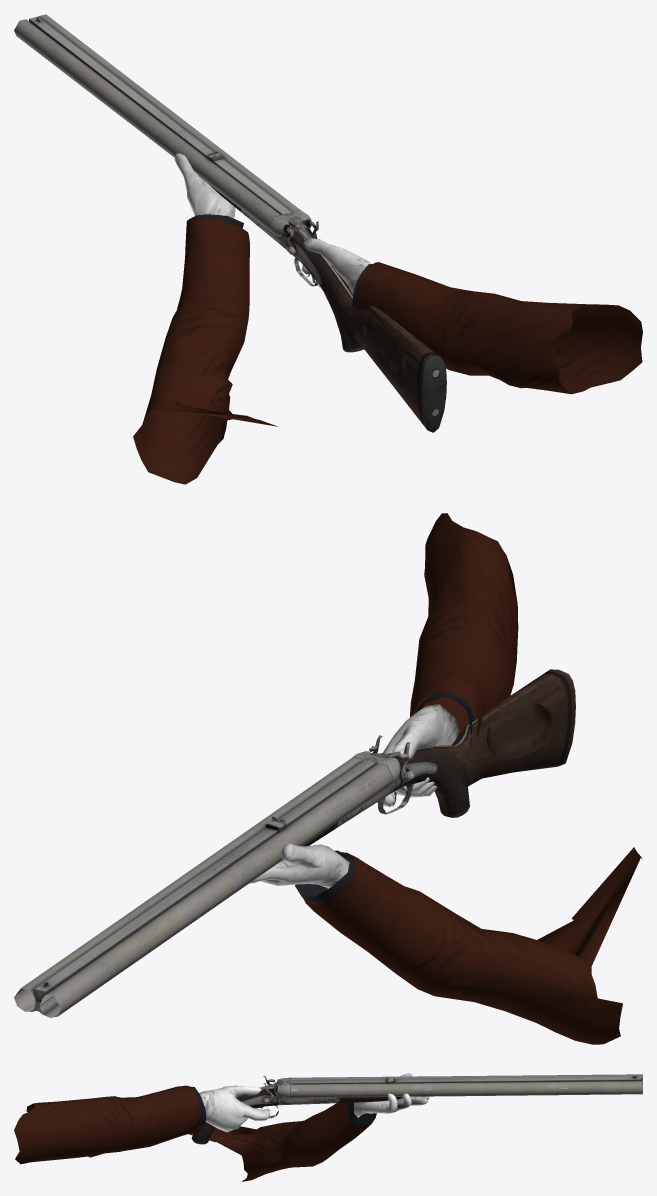
Rendered from frame_2.obj.
3 views of the same model, one above another, from view 1: azimuth 30°, elevation 25°; view 2: azimuth 150°, elevation 25°; view 3: azimuth 270°, elevation 25° (orthographic). The views are drawn at different scales.
Parts seen in each view (by area): view 1: PlayerModelMerged.001_PlayerModelMerged, double_-_barreled_shotgun_L_double_-_barreled_shotgun_LP_к.001; view 2: PlayerModelMerged.001_PlayerModelMerged, double_-_barreled_shotgun_L_double_-_barreled_shotgun_LP_к.001; view 3: PlayerModelMerged.001_PlayerModelMerged, double_-_barreled_shotgun_L_double_-_barreled_shotgun_LP_к.001.
Part boxes in pixels (bbox=[...]): PlayerModelMerged.001_PlayerModelMerged: bbox=[133, 153, 642, 484]; double_-_barreled_shotgun_L_double_-_barreled_shotgun_LP_к.001: bbox=[14, 14, 446, 432]; PlayerModelMerged.001_PlayerModelMerged: bbox=[249, 513, 642, 1044]; double_-_barreled_shotgun_L_double_-_barreled_shotgun_LP_к.001: bbox=[14, 669, 575, 1017]; PlayerModelMerged.001_PlayerModelMerged: bbox=[14, 1073, 429, 1181]; double_-_barreled_shotgun_L_double_-_barreled_shotgun_LP_к.001: bbox=[88, 1074, 642, 1157].
Bounding box in the file's own units: 0.8331 × 0.553 × 2.
